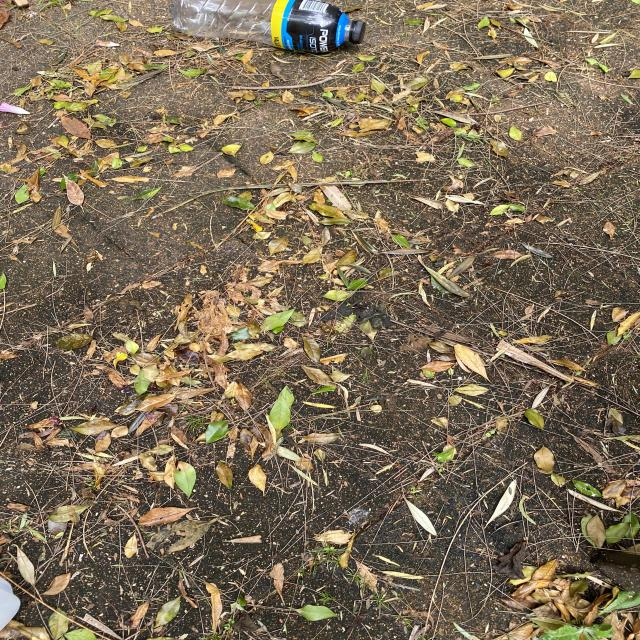bottle: (167, 0, 364, 51)
